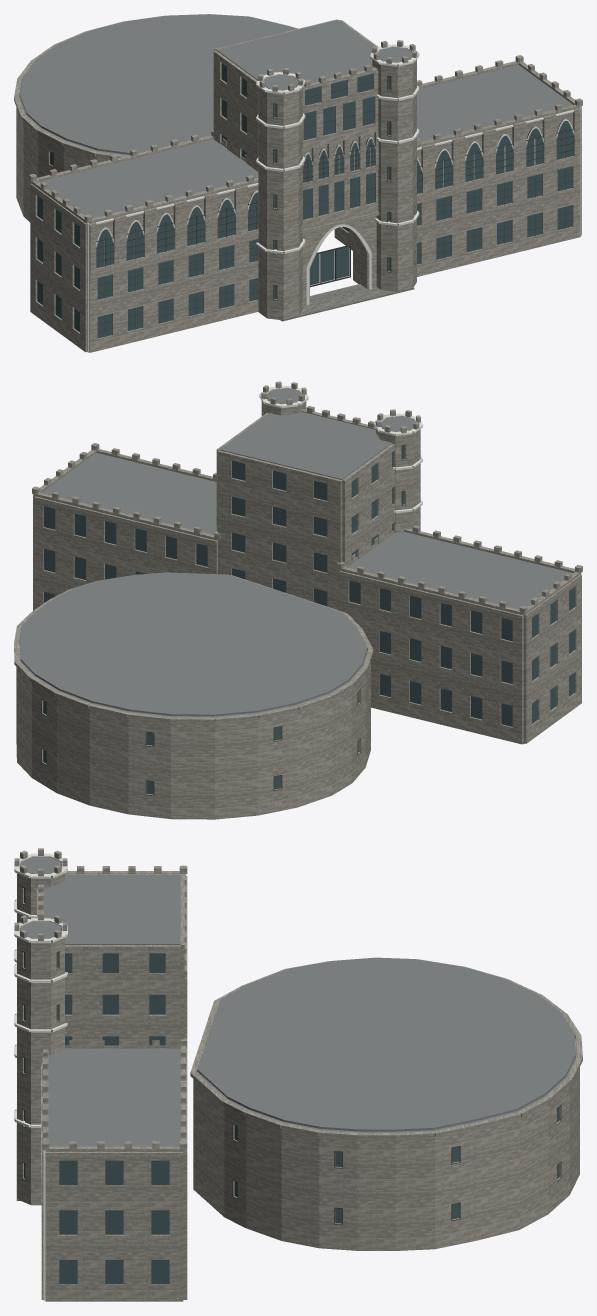
The picture shows the model from 3 angles, top to bottom: view 1: azimuth 30°, elevation 25°; view 2: azimuth 150°, elevation 25°; view 3: azimuth 270°, elevation 25°; orthographic projection. The views are drawn at different scales.
Visible parts, largest first — view 1: incheonMemorial__stone, incheonMemorial__roof, incheonMemorial__glass, incheonMemorial__cream, incheonMemorial__frame, incheonMemorial__rough; view 2: incheonMemorial__stone, incheonMemorial__roof, incheonMemorial__glass, incheonMemorial__cream; view 3: incheonMemorial__stone, incheonMemorial__roof, incheonMemorial__glass, incheonMemorial__cream, incheonMemorial__frame.
Boxes of the visible parts, bbox=[...] form: incheonMemorial__stone: bbox=[14, 14, 582, 352]; incheonMemorial__roof: bbox=[20, 14, 572, 352]; incheonMemorial__glass: bbox=[37, 63, 573, 338]; incheonMemorial__cream: bbox=[87, 44, 581, 352]; incheonMemorial__frame: bbox=[48, 69, 574, 337]; incheonMemorial__rough: bbox=[280, 284, 414, 321]; incheonMemorial__stone: bbox=[14, 381, 582, 819]; incheonMemorial__roof: bbox=[20, 388, 572, 744]; incheonMemorial__glass: bbox=[43, 445, 574, 794]; incheonMemorial__cream: bbox=[259, 385, 422, 513]; incheonMemorial__stone: bbox=[14, 848, 582, 1301]; incheonMemorial__roof: bbox=[21, 857, 575, 1146]; incheonMemorial__glass: bbox=[24, 888, 559, 1284]; incheonMemorial__cream: bbox=[14, 853, 67, 1300]; incheonMemorial__frame: bbox=[22, 886, 561, 1224].
Size of the model in its own units: 70.83 by 32.2 by 61.09.
6 materials, 2 textured.
